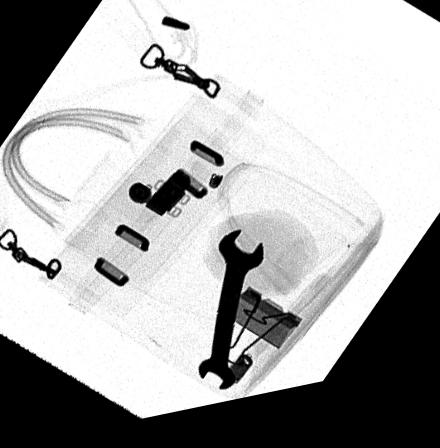Wrench: (196, 237, 266, 401)
